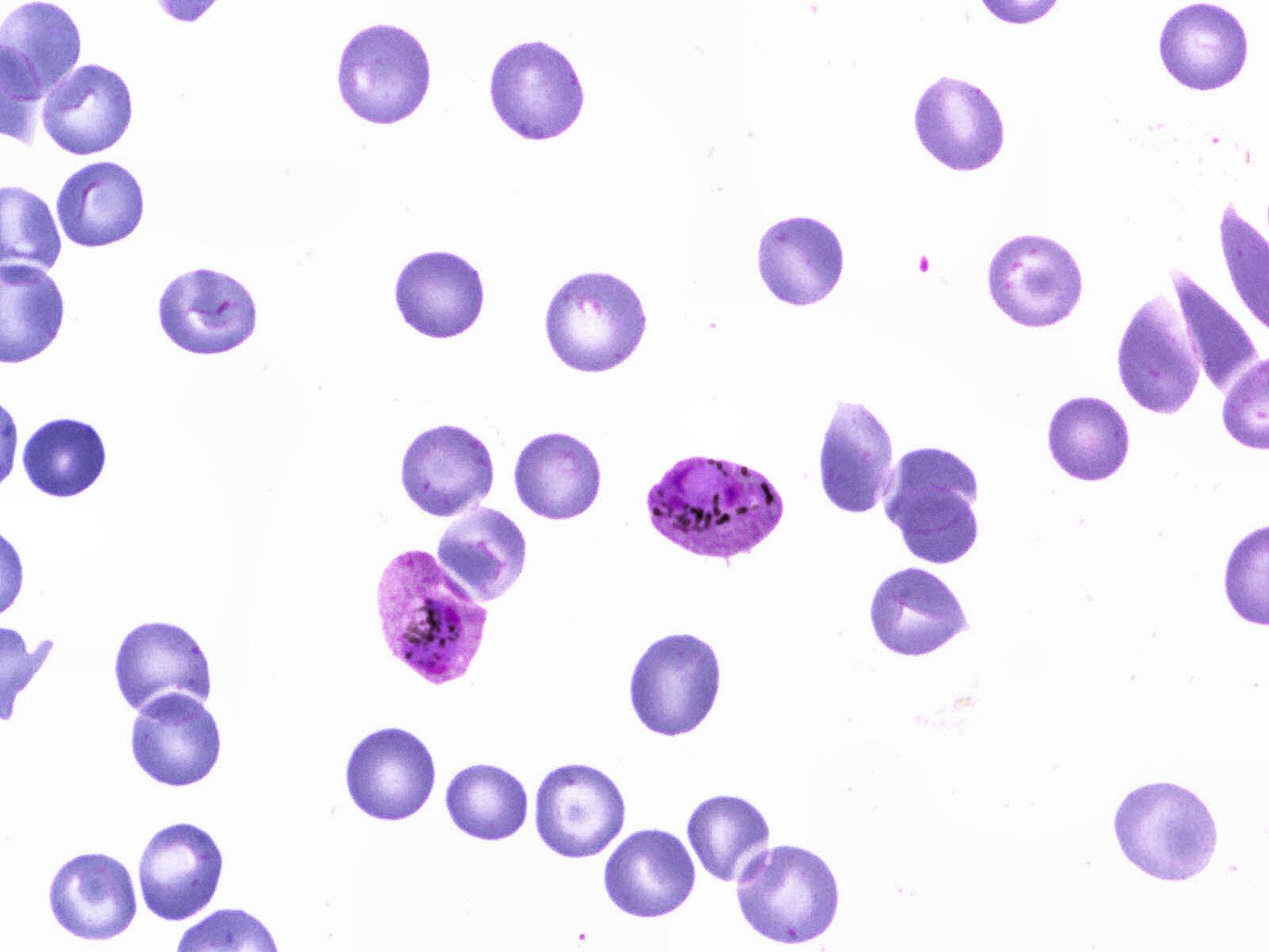Infected: (377, 551, 487, 685), (647, 457, 788, 559)
Uninfected: (1170, 265, 1265, 403), (730, 841, 842, 948), (541, 268, 654, 374), (485, 38, 590, 146), (1111, 781, 1223, 882), (338, 21, 436, 126), (865, 566, 972, 662), (1118, 297, 1202, 418), (531, 762, 632, 861), (987, 232, 1087, 331), (912, 75, 1010, 176), (629, 633, 722, 738), (136, 818, 228, 924), (115, 620, 212, 720), (398, 425, 497, 521), (431, 506, 527, 604), (42, 59, 136, 159), (393, 246, 492, 340), (157, 267, 259, 358), (343, 724, 436, 823), (128, 687, 220, 786), (602, 827, 698, 921), (757, 213, 849, 309), (59, 155, 151, 251), (1157, 3, 1257, 91), (885, 447, 980, 537), (513, 429, 605, 521), (822, 401, 894, 516), (686, 793, 774, 886), (1045, 391, 1133, 482), (52, 849, 135, 943), (23, 414, 110, 499), (448, 764, 532, 844), (901, 484, 981, 564)
